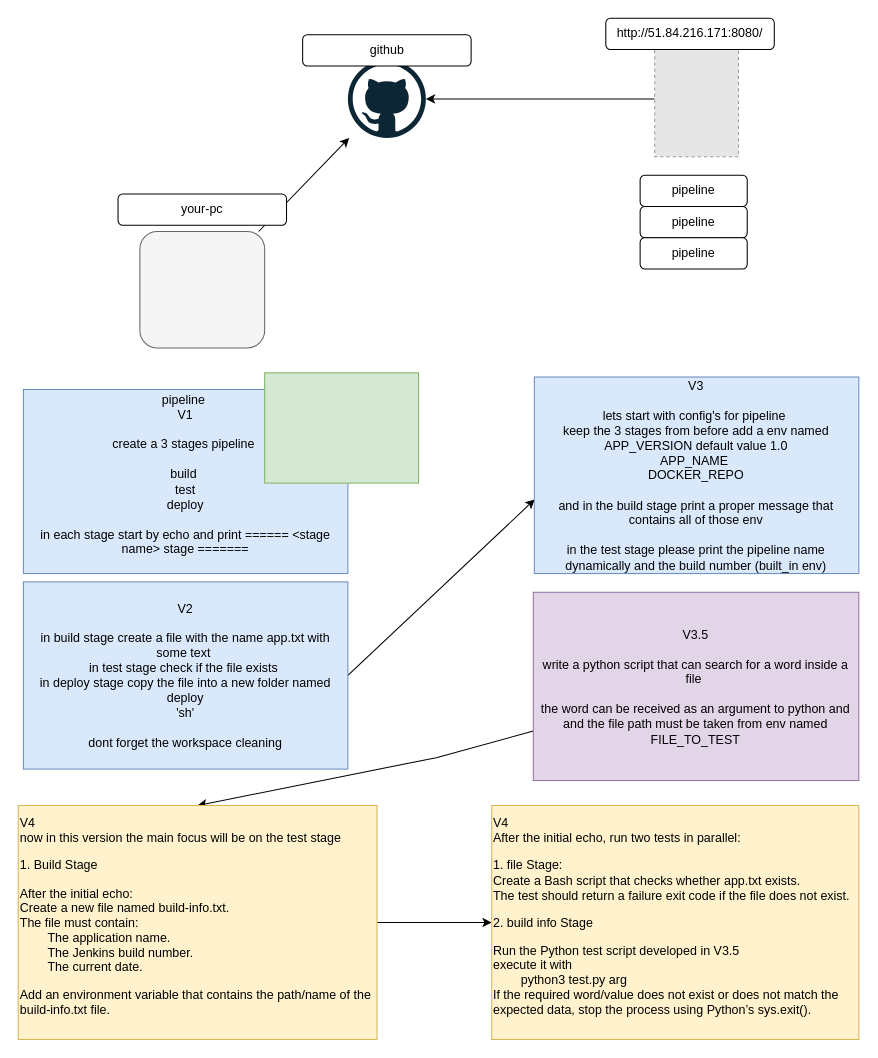
Image size: 878x1058. Some labels were removed from this diagram. Grey dashed boxes stand in for pictures. Each missing label, with the centre of its shape:
"add a post action always to delete the workspace (clear)" goes at pixel 341 427.
"Repo jenkinsfile" goes at pixel 202 289.
